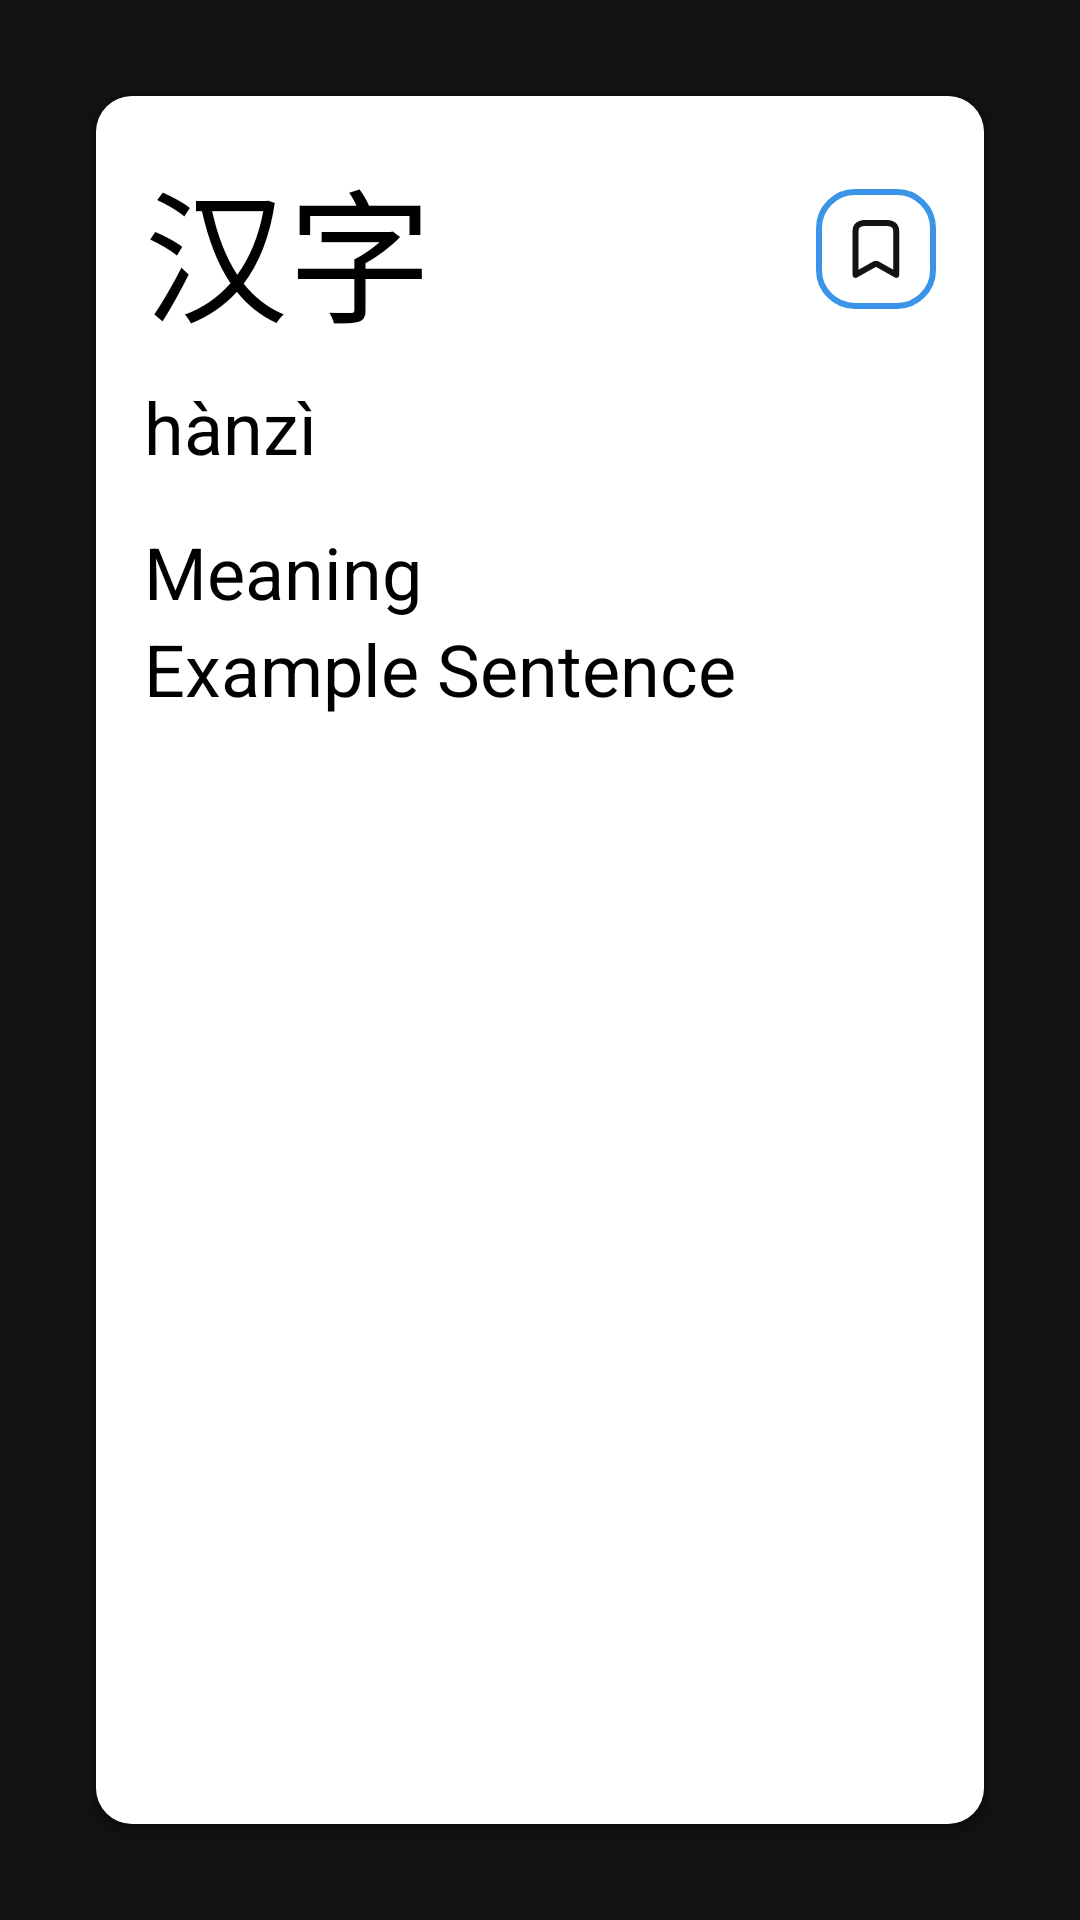

Icon click points for this 1080x1920 phone screenshot, format (x=x, y=y):
bookmark day: (x=876, y=249)
